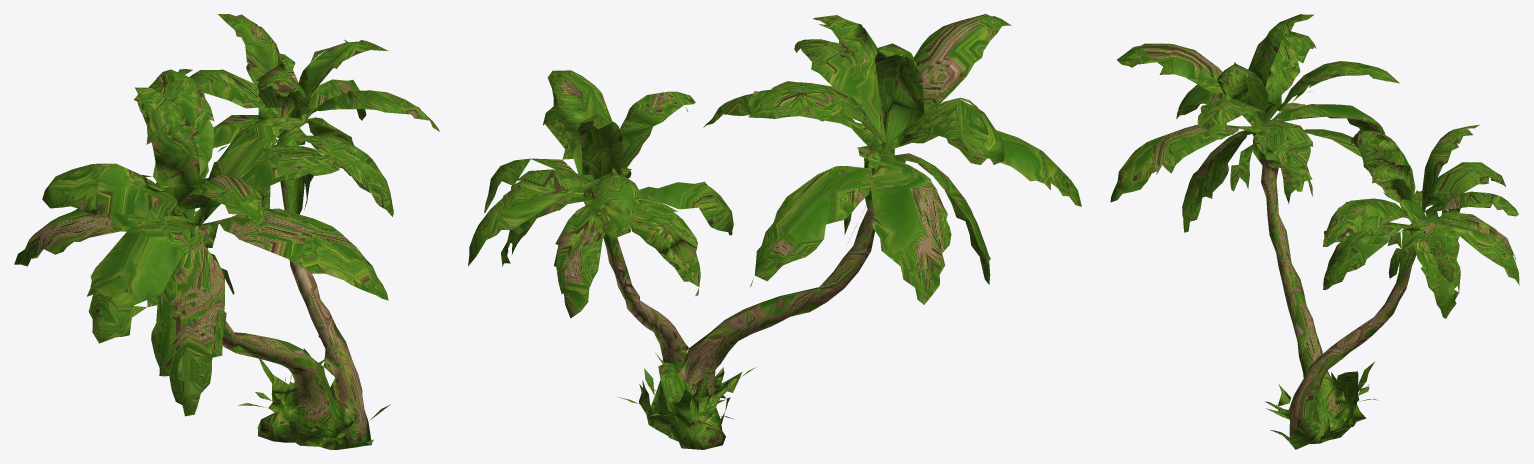
The model's file is palm_low.glb.
The picture shows the model from 3 angles, left to right: view 1: azimuth 30°, elevation 25°; view 2: azimuth 150°, elevation 25°; view 3: azimuth 270°, elevation 25°; orthographic projection. The views are drawn at different scales.
Bounding box in the file's own units: 0.9903 × 0.9039 × 0.9794.
1 material, 1 textured.
